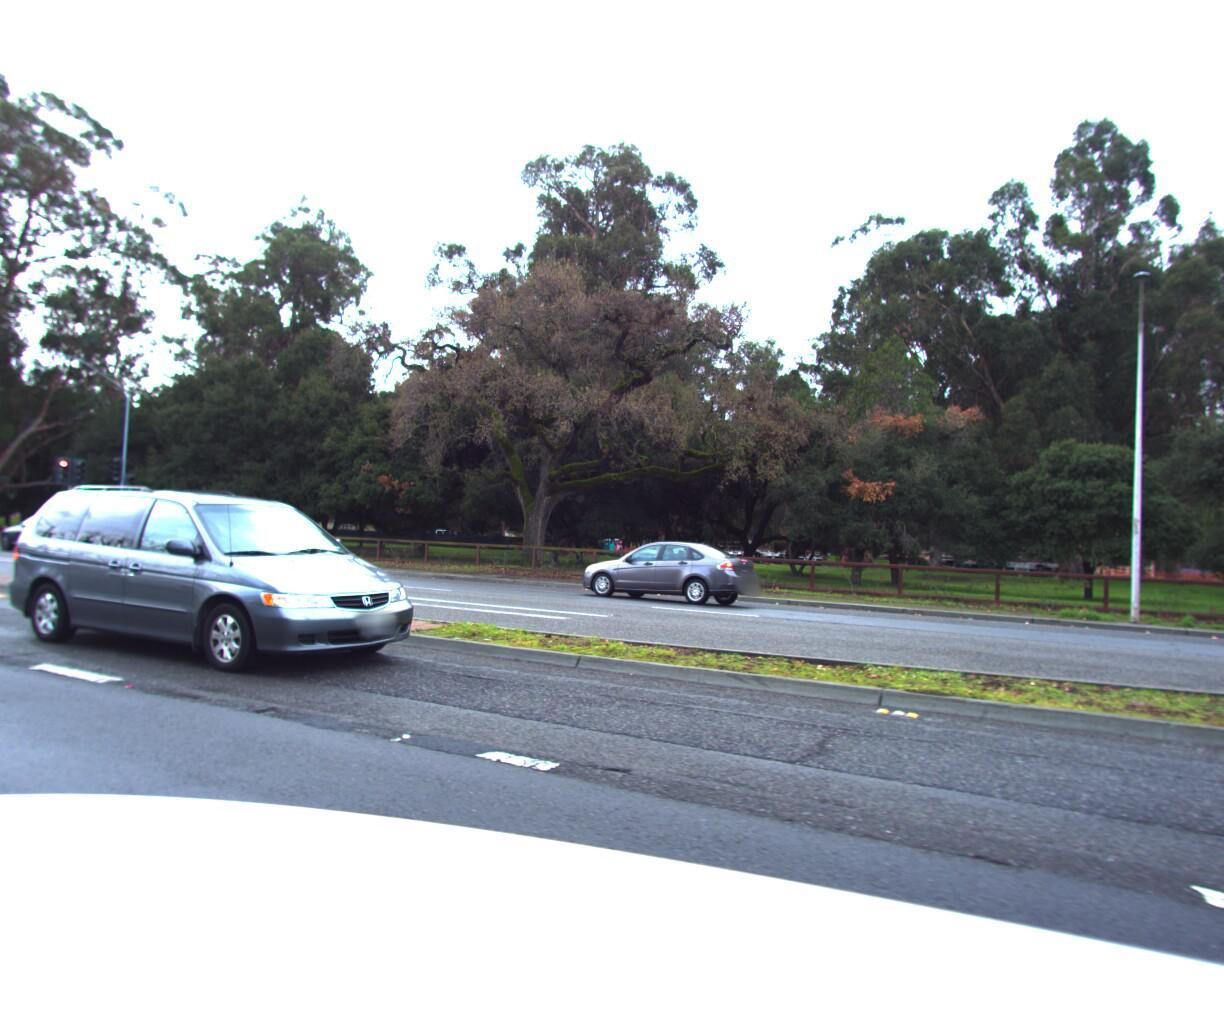car: (0, 475, 425, 690), (573, 538, 774, 613), (0, 514, 124, 561)
